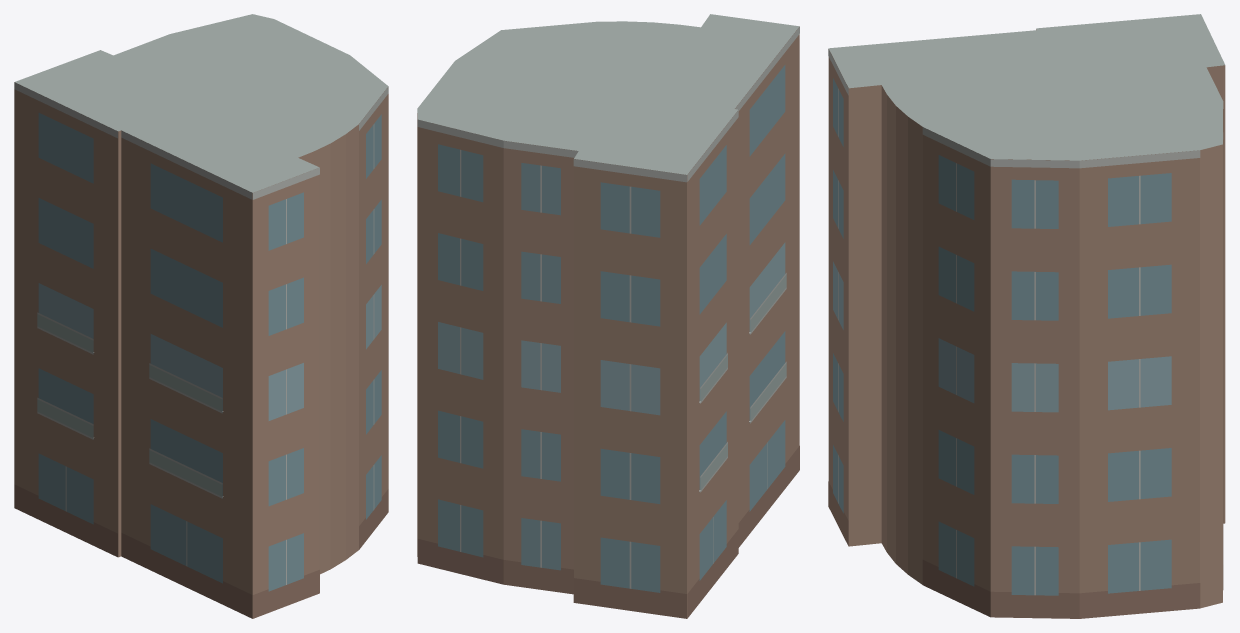
Rendered from survey-upis-33006247.glb.
3 views of the same model, side by side, from view 1: azimuth 30°, elevation 25°; view 2: azimuth 150°, elevation 25°; view 3: azimuth 270°, elevation 25° (orthographic). The views are drawn at different scales.
Parts seen in each view (by area): view 1: survey-upis-33006247.tmp; view 2: survey-upis-33006247.tmp; view 3: survey-upis-33006247.tmp.
Boxes of the visible parts, x1,y1,x2,y2 form: survey-upis-33006247.tmp: (14,14,388,618); survey-upis-33006247.tmp: (417,14,799,618); survey-upis-33006247.tmp: (828,14,1225,618).
Size of the model in its own units: 9.96 by 14.5 by 11.39.
